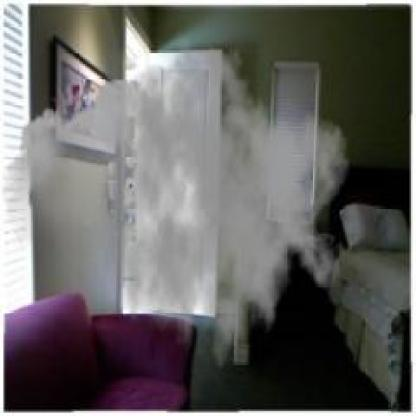Smoke: (2, 33, 352, 386)
